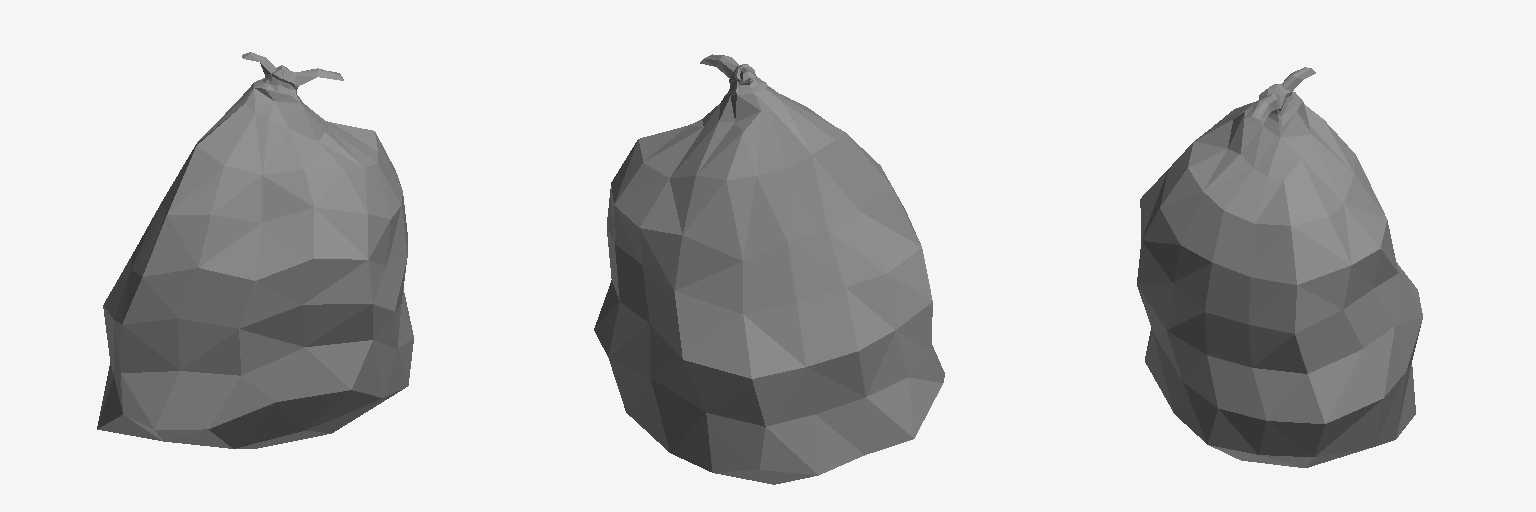
Rendered from garbage_bag.obj.
The picture shows the model from 3 angles: view 1: azimuth 30°, elevation 25°; view 2: azimuth 150°, elevation 25°; view 3: azimuth 270°, elevation 25°; orthographic projection.
Parts seen in each view (by area): view 1: Box09; view 2: Box09; view 3: Box09.
Part boxes in pixels (bbox=[...]): Box09: bbox=[97, 52, 413, 448]; Box09: bbox=[594, 54, 944, 484]; Box09: bbox=[1137, 67, 1422, 467].
Size of the model in its own units: 52.33 by 62.32 by 42.15.